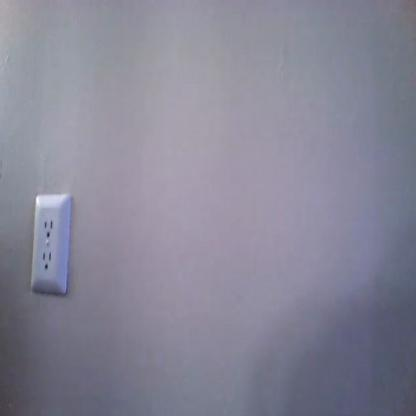OUTLET: (30, 194, 70, 295)
